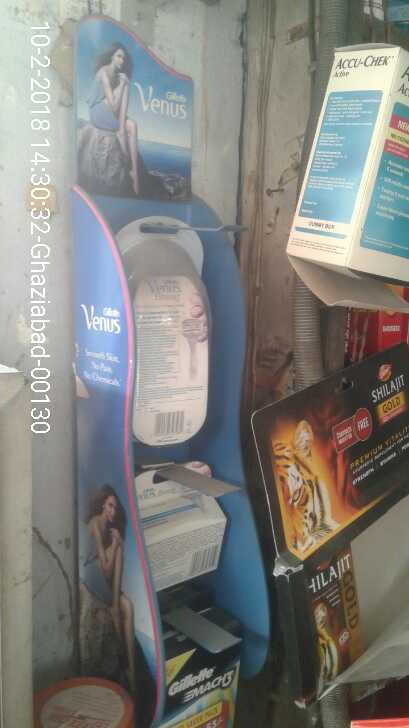reject: (122, 270, 228, 399)
